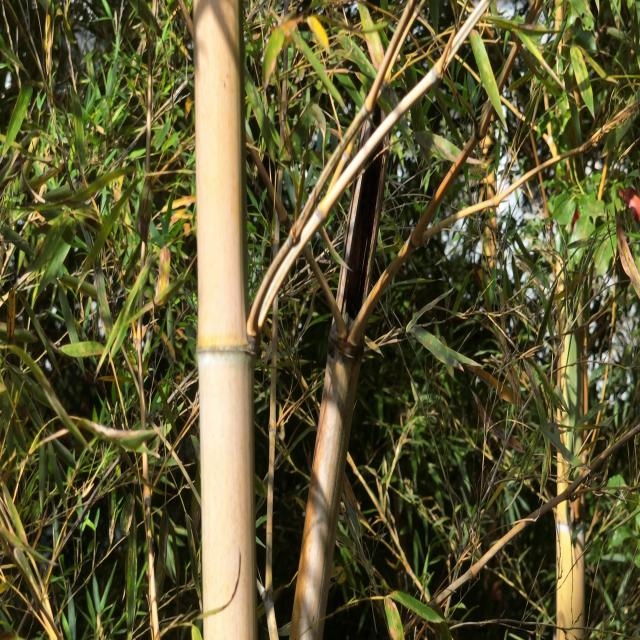Bamboo-shoots: (194, 0, 255, 640)
